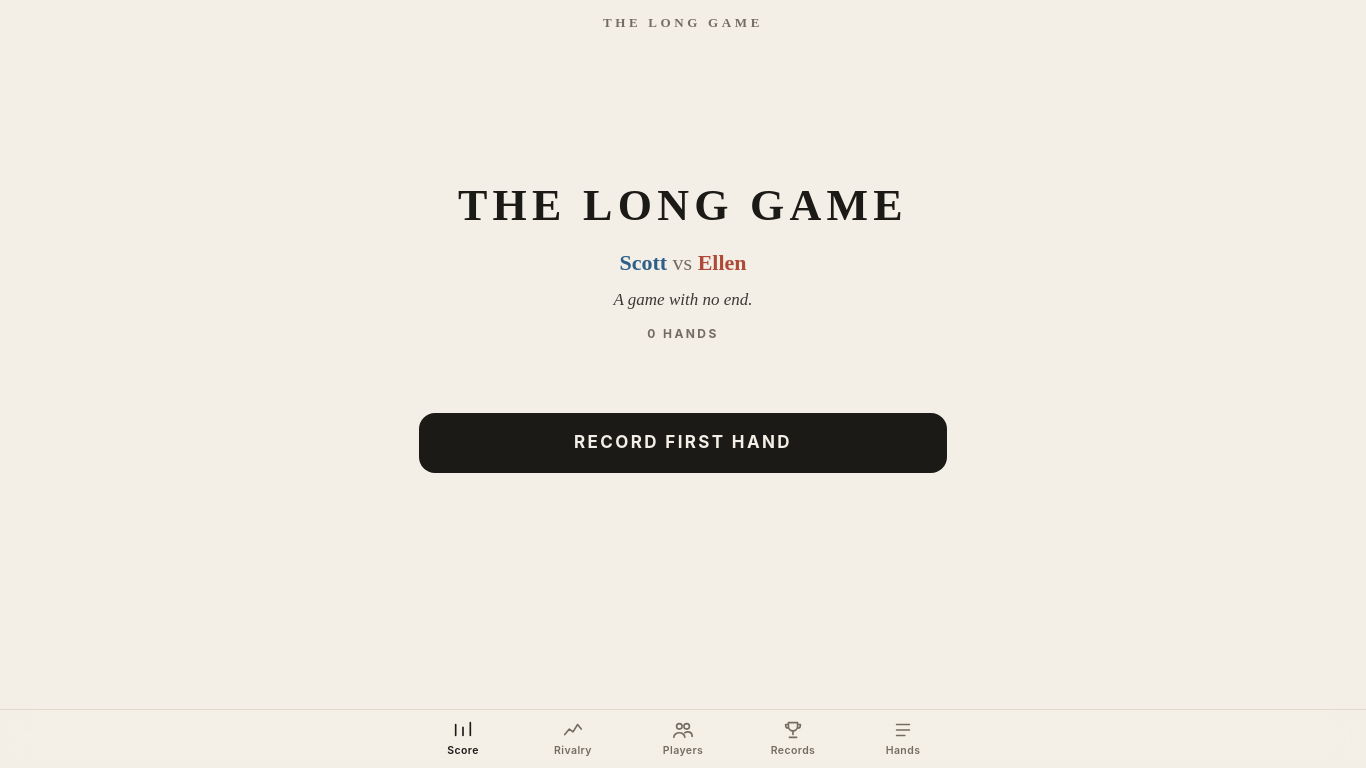
App › auto-advances to Ellen after Scott enters 0
Click the button "RECORD FIRST HAND".
click(683, 443)  # box [419,413,947,473]
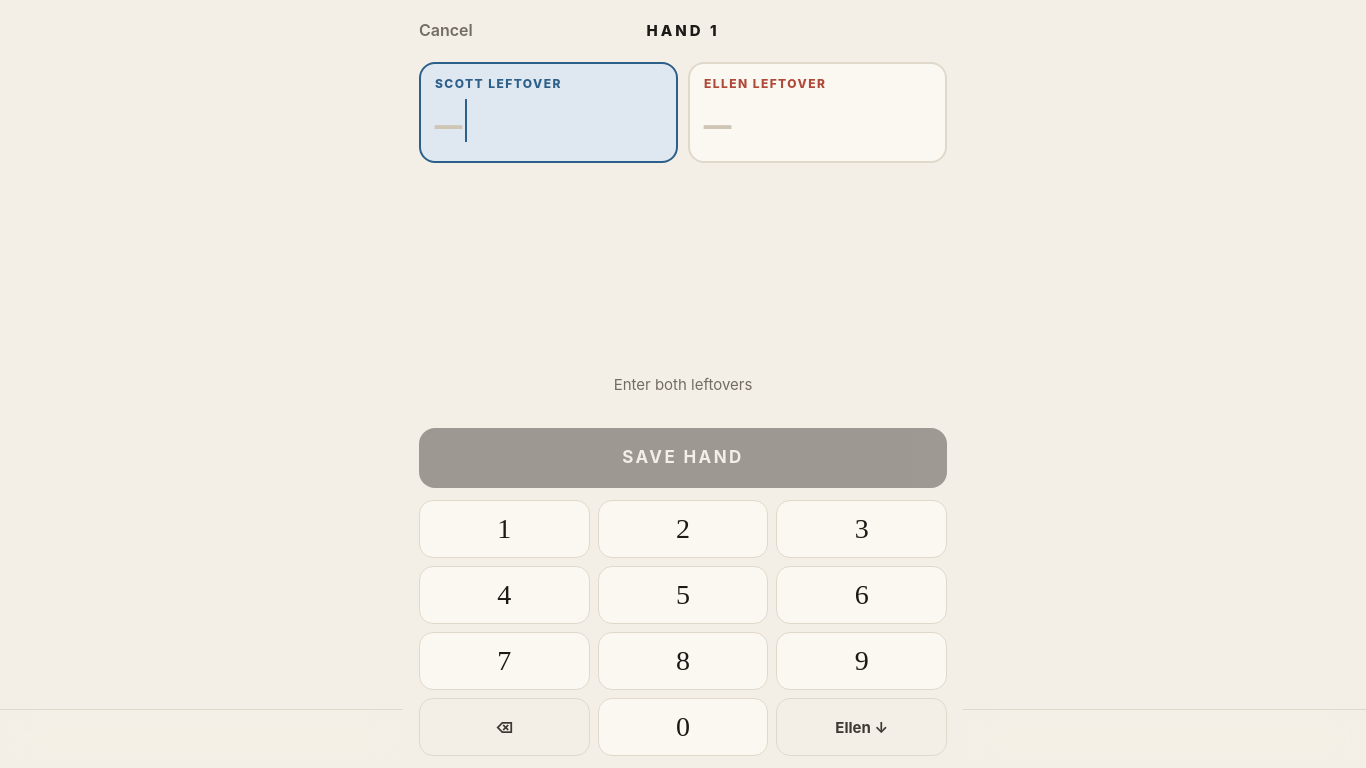
Expected: the button "0" is shown
Click the button "0".
click(683, 727)  # box [598,698,768,756]
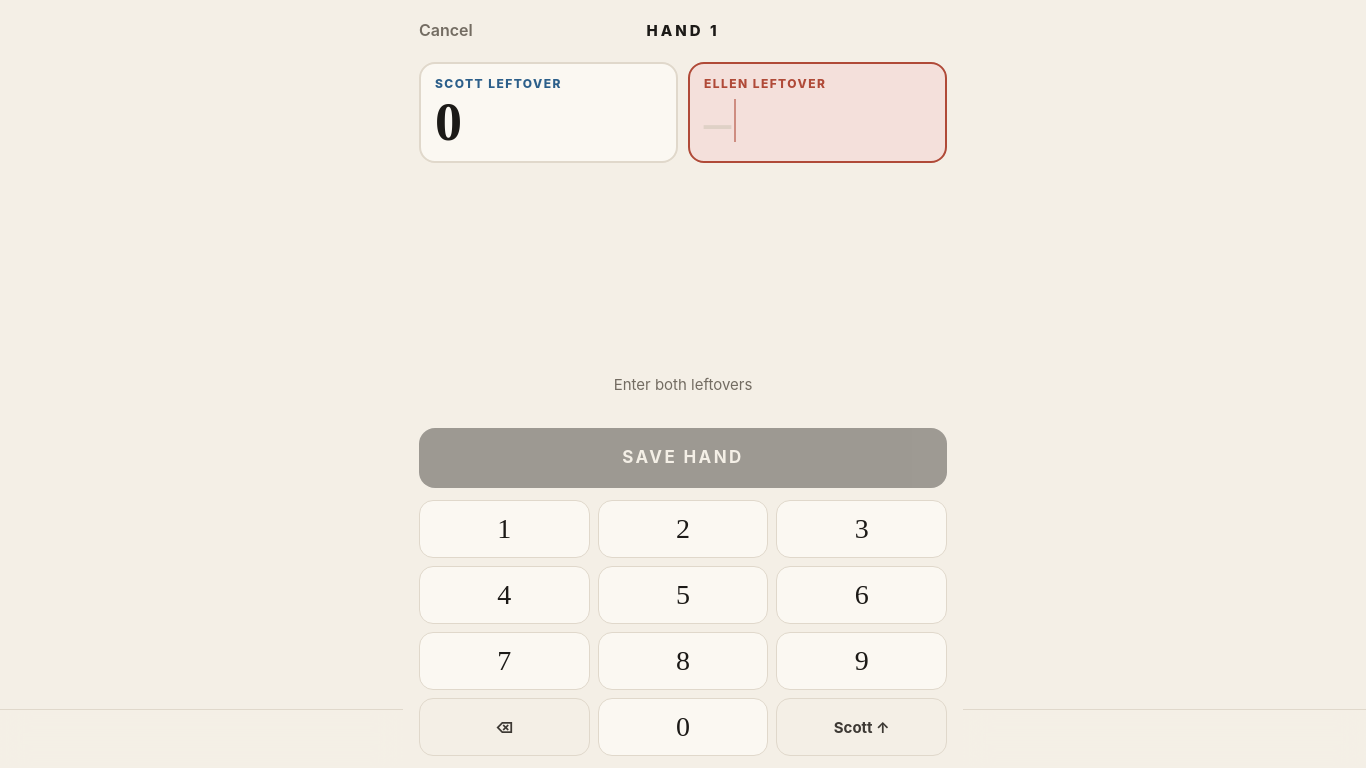
Expected: the button "Ellen leftover –" is shown, [688,62,947,163]
Expected: the button "8" is shown
Click the button "8".
click(683, 661)  # box [598,632,768,690]
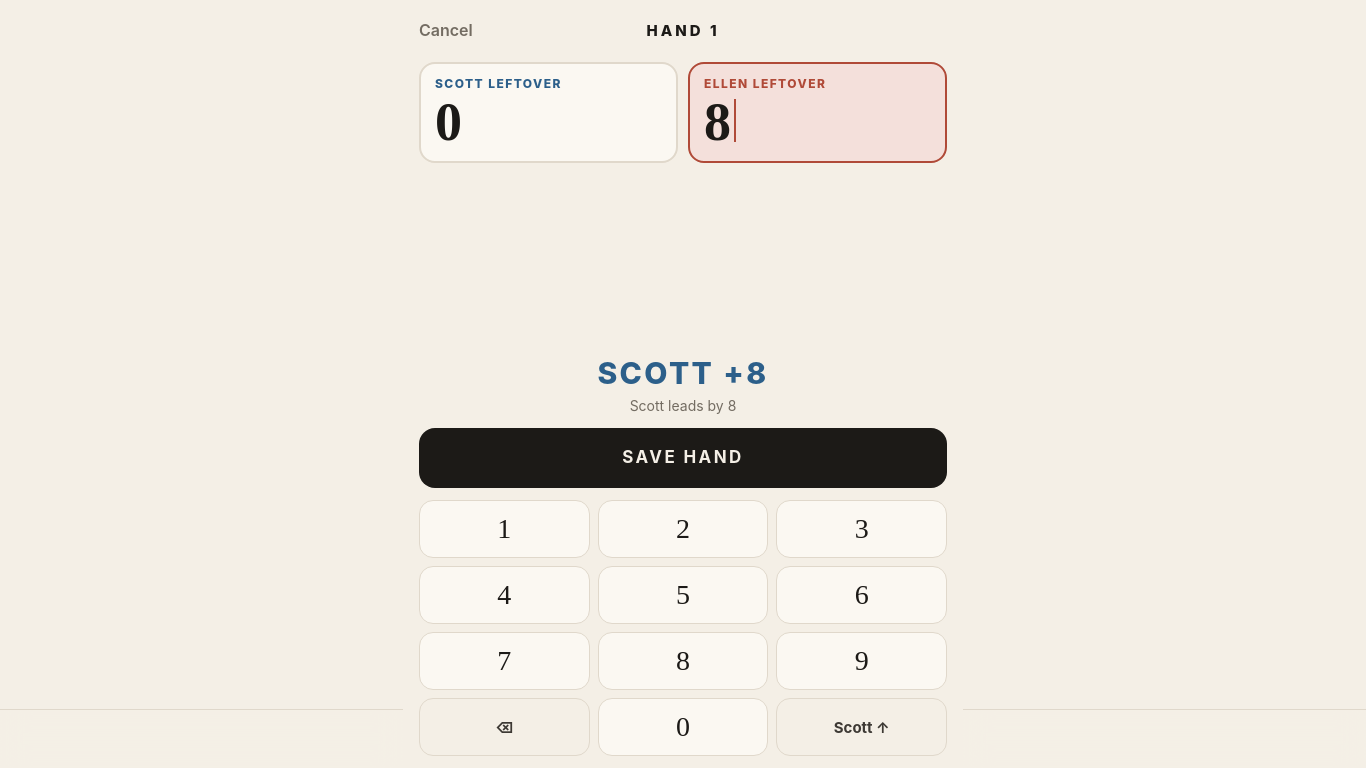
Expected: the text with class "entry-award" reads "SCOTT +8", [597,352,769,394]
